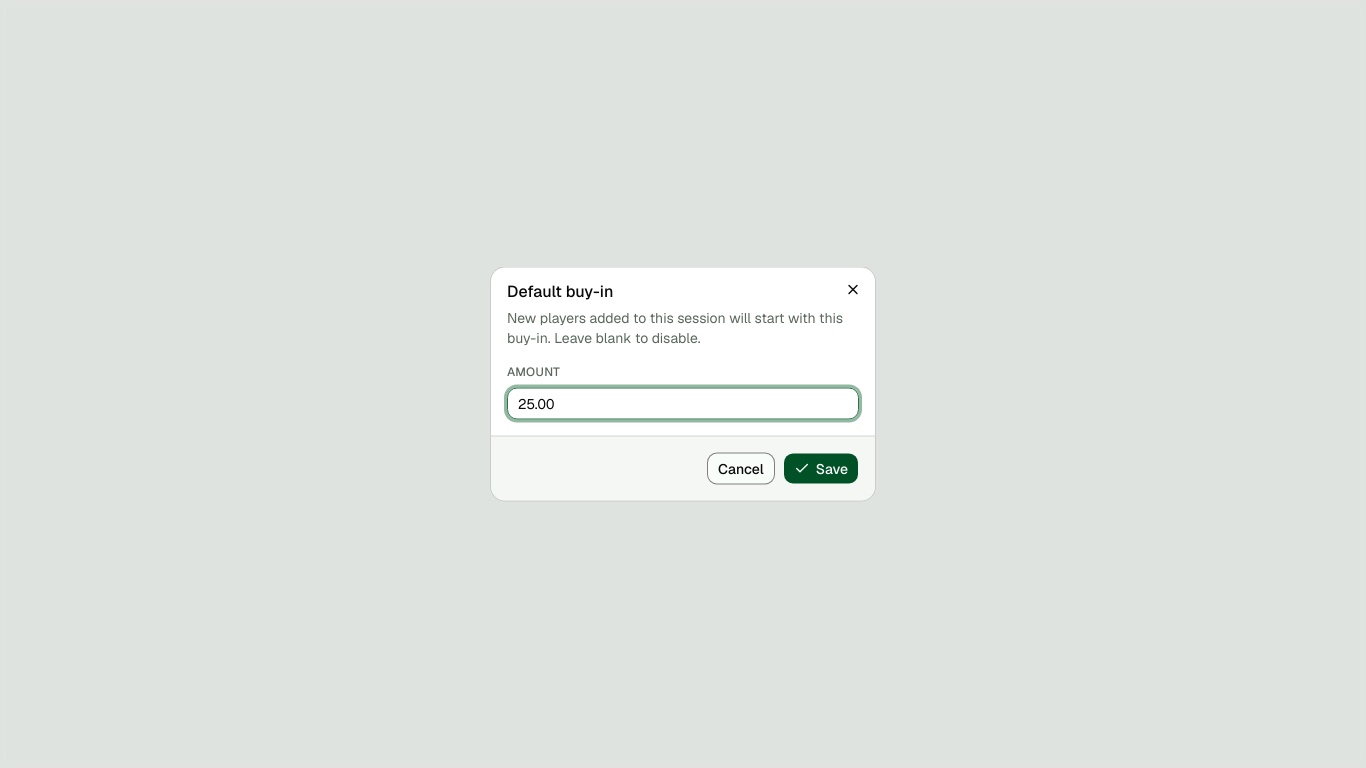
Test: DefaultBuyInModal › shows a validation error for an invalid amount and does not submit
The width and height of the screenshot is (1366, 768).
Replace the text in the field with test id "default-buy-in-amount" with "0" at (683, 404), box [507, 388, 859, 420]
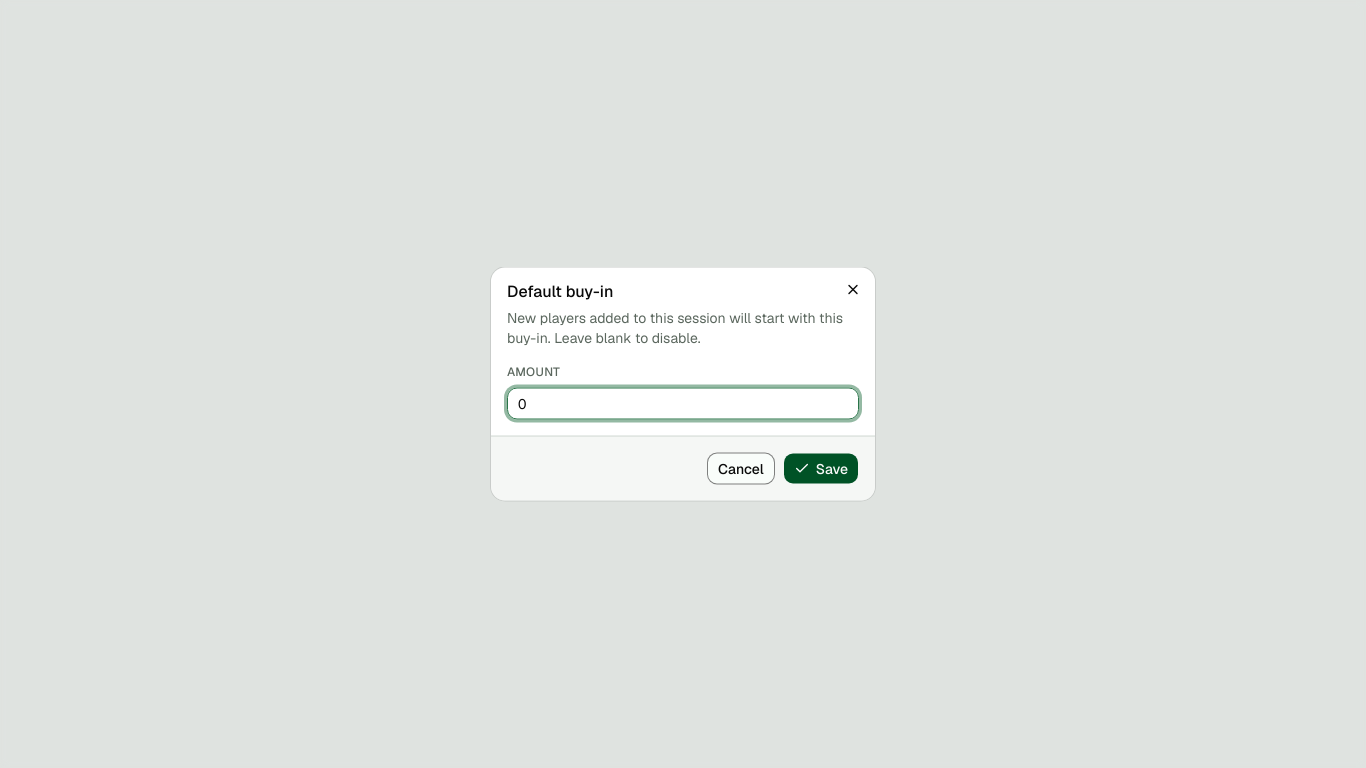
Click the button with test id "default-buy-in-submit" at (821, 468), box [783, 452, 859, 484]
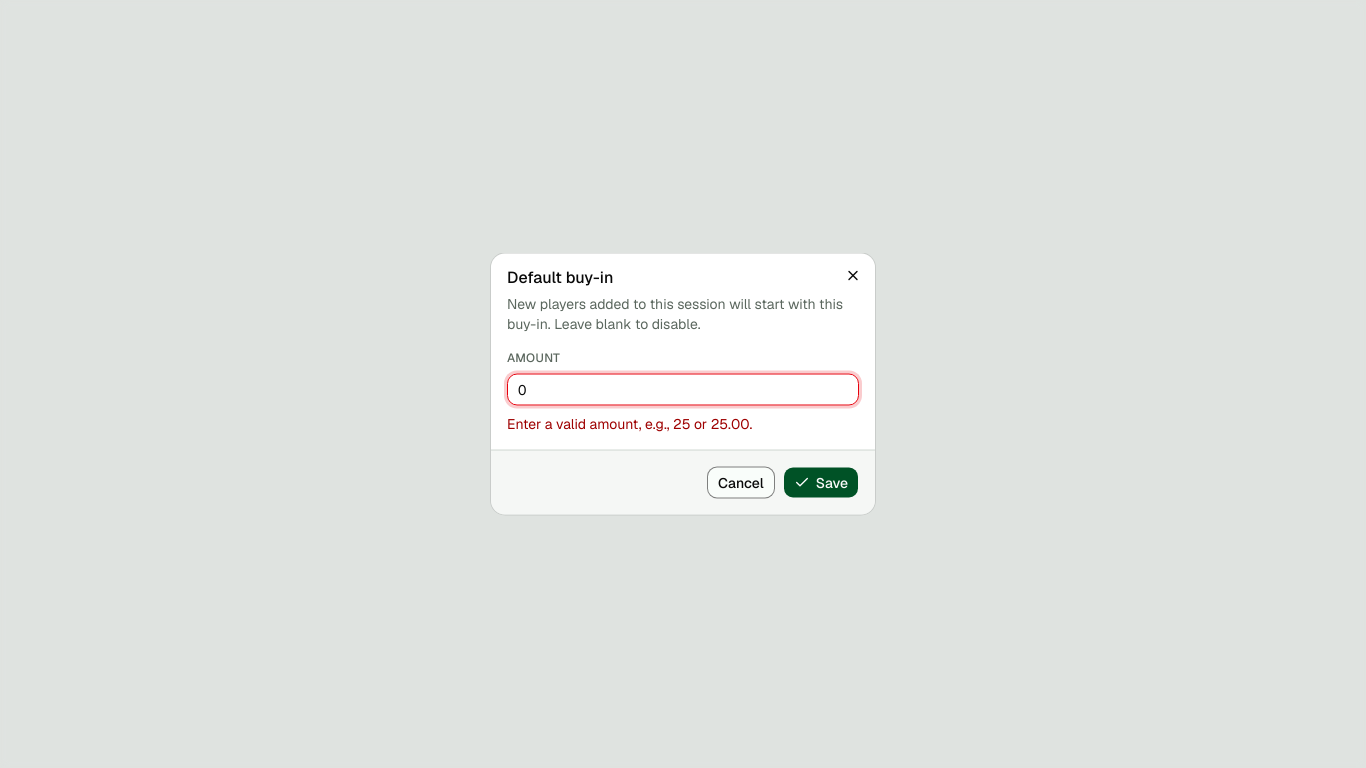
Result: the message shows "valid amount" at [507, 414, 752, 432]
